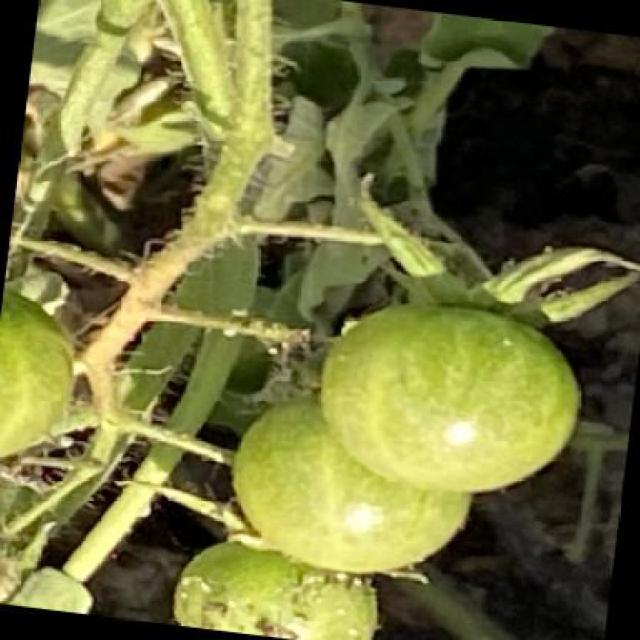unripe tomato: (297, 286, 597, 512), (216, 381, 484, 585), (161, 530, 394, 638)
